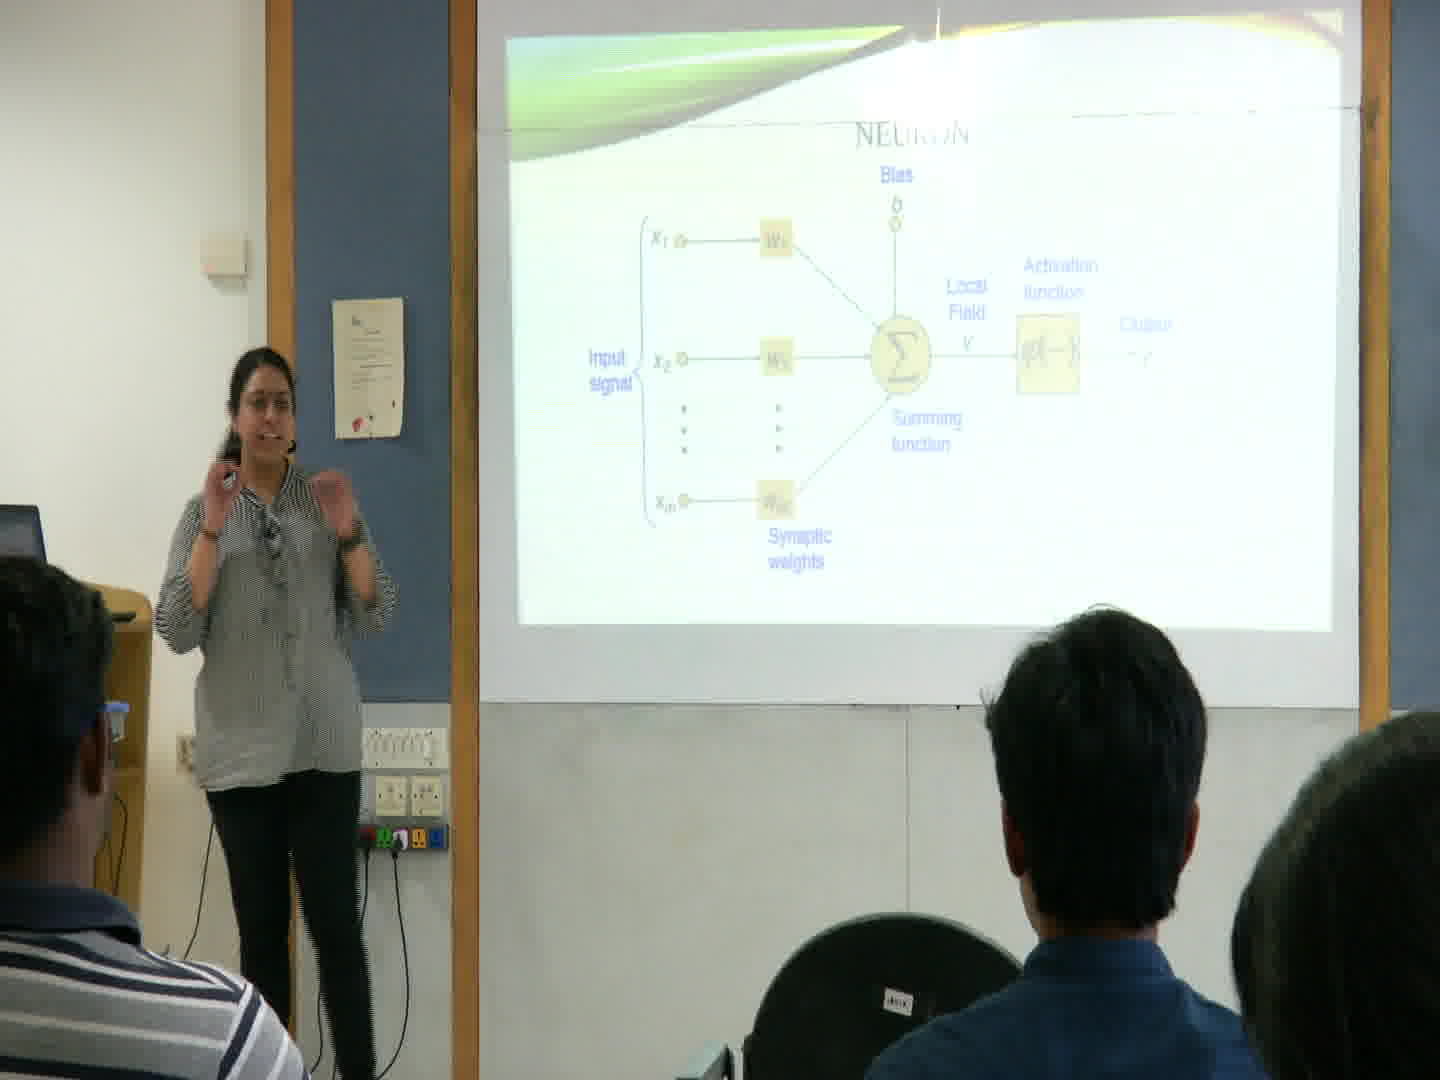slide: (503, 10, 1336, 633)
